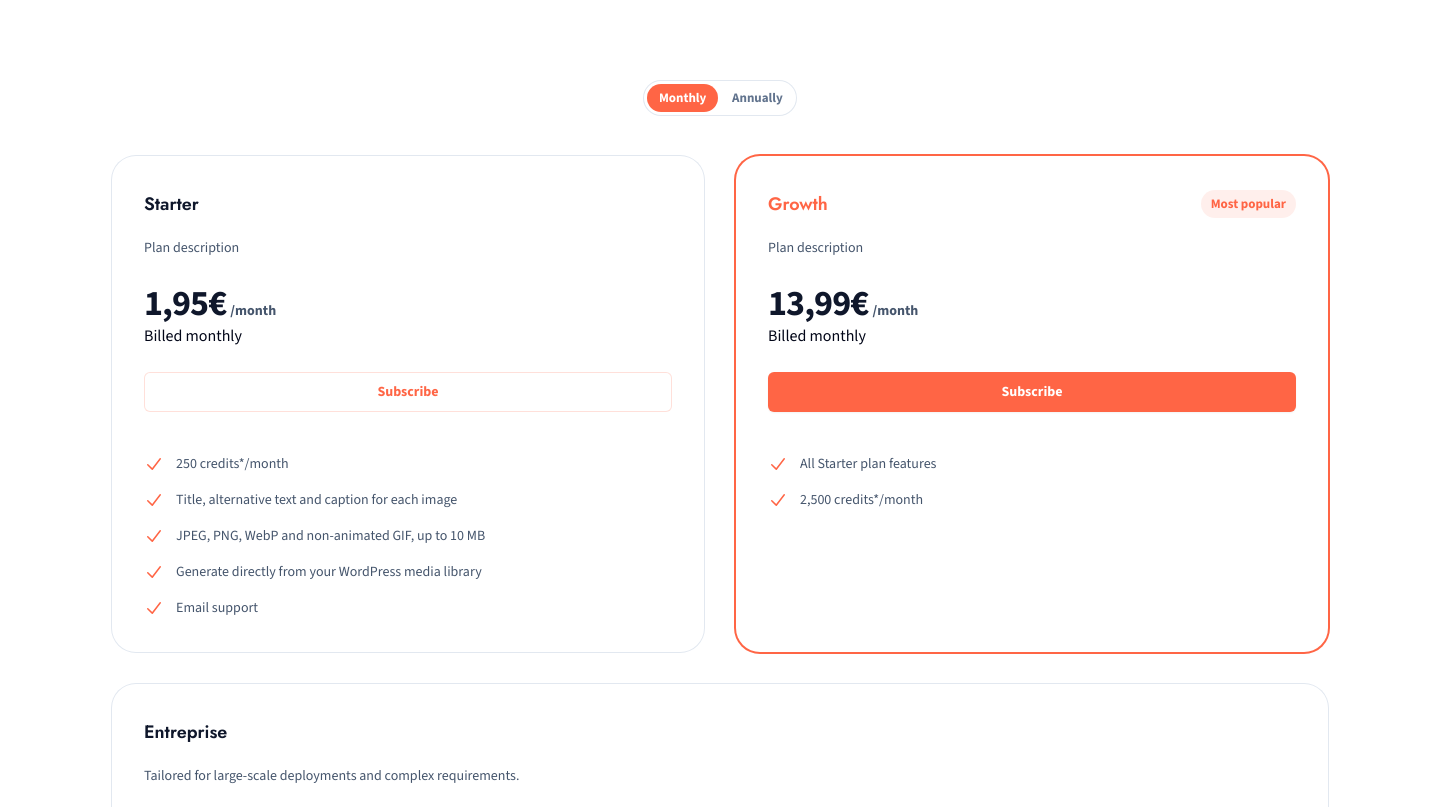
Test case: Plans page promises › shows no saving when the yearly plans do not give 12 times the monthly credits
Click the radio button with test id "frequency-option-annually" at point(757, 98), box [732,89,783,107]
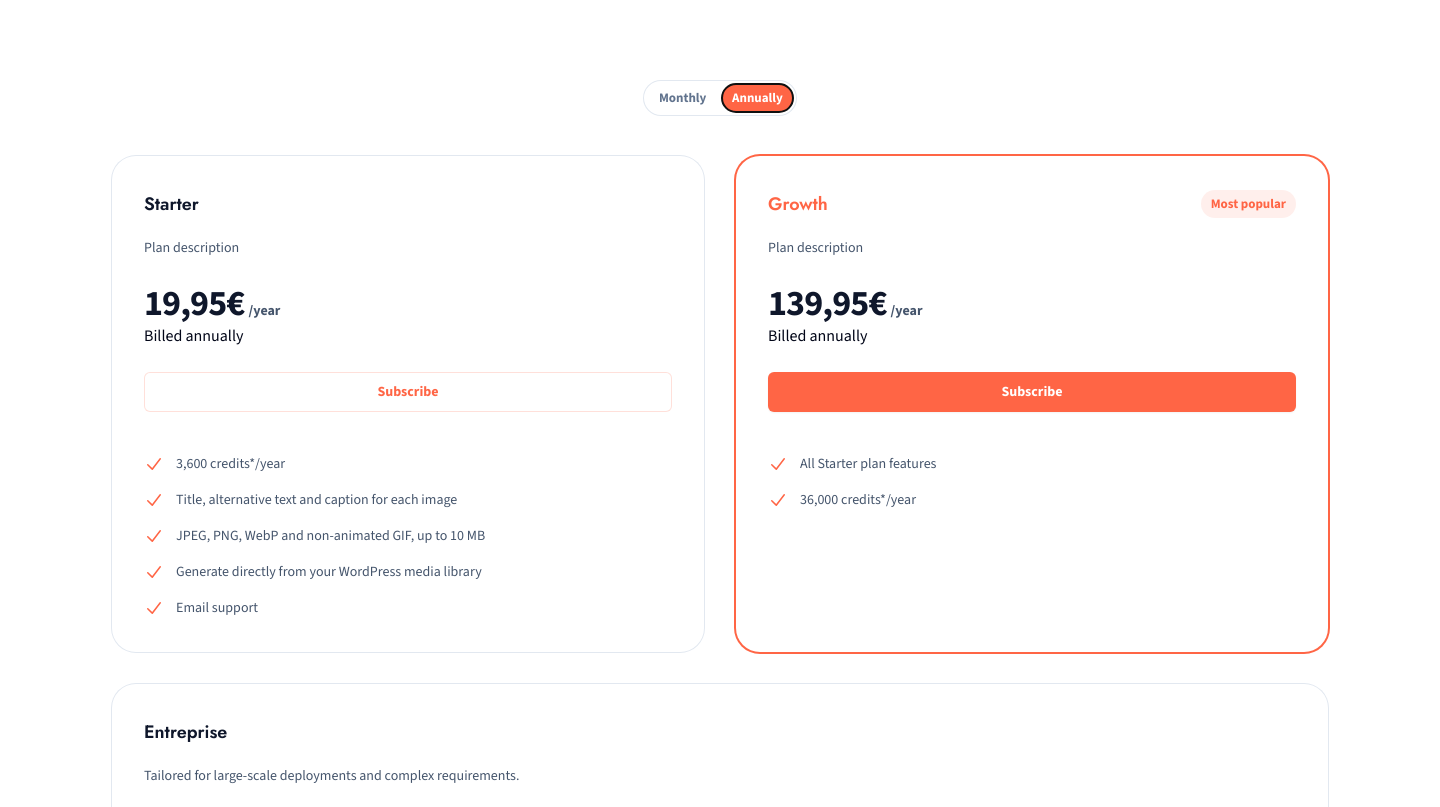
Check: the list item "3,600 credits*/year" is shown, box [144,452,285,476]
